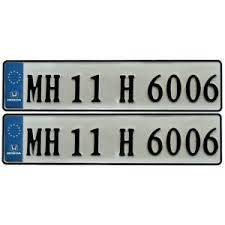inlp: (1, 57, 225, 114), (1, 112, 225, 168)
